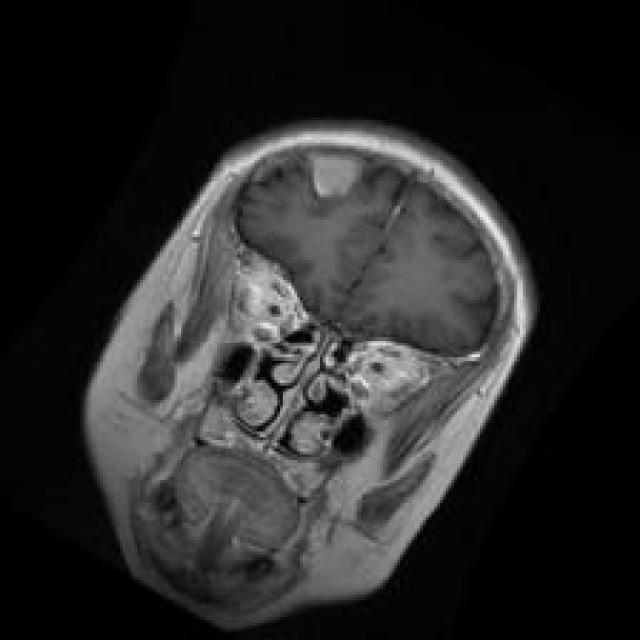meningioma_tumor: (291, 134, 389, 212)
